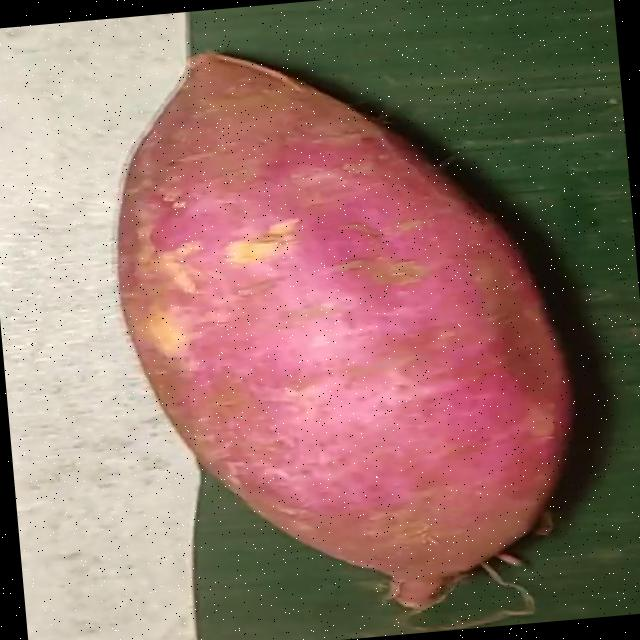Sweet Potato: (114, 48, 571, 608)
